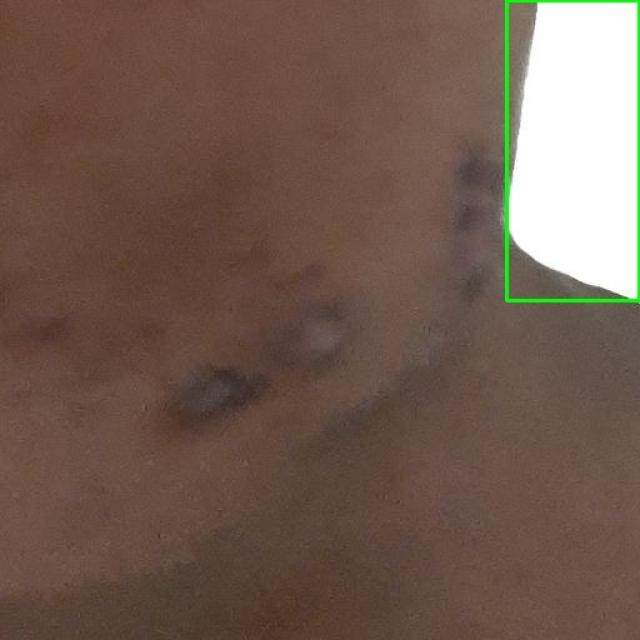Contact Dermatitis: (506, 0, 639, 300)
